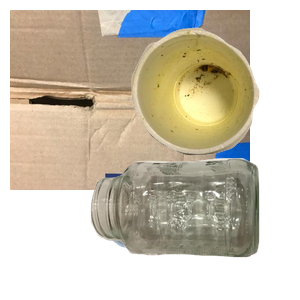cardboard: (10, 10, 250, 190)
glass: (88, 156, 300, 300)
plastic: (98, 176, 266, 300)
trash: (129, 25, 300, 173)
